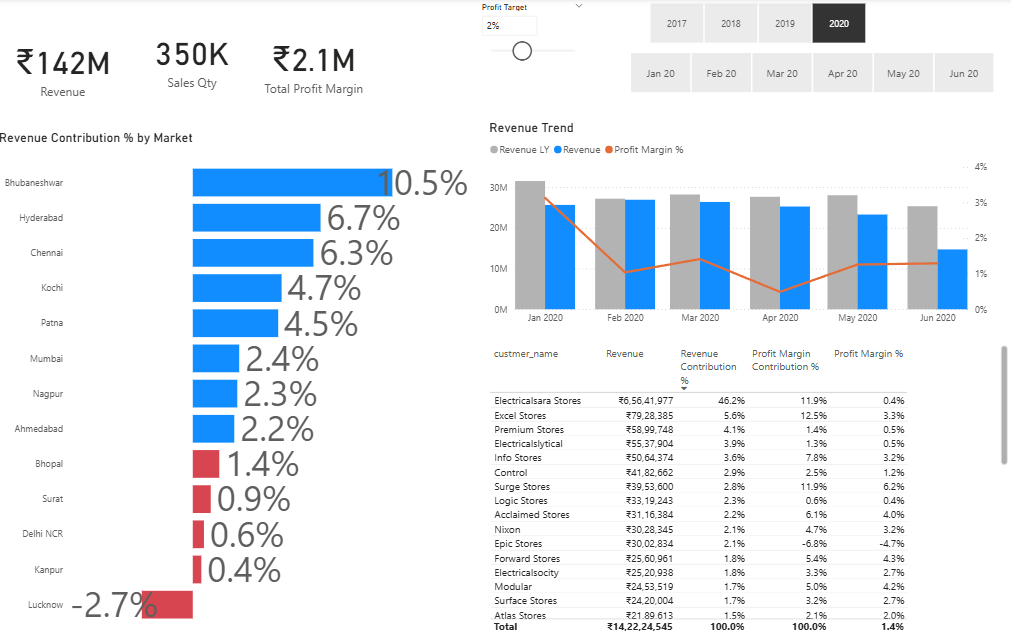

The page's visual inventory and layout, read from the dashboard file:
{"tool":"powerbi","page":{"name":"Profit Analysis","canvas":[1350,850],"ordinal":1},"visuals":[{"type":"card","fields":{"Values":["BaseMeasures (2).Revenue"]},"box":[0,0,179.6,184.8],"z":0},{"type":"card","fields":{"Values":["BaseMeasures (2).Sales Qty"]},"box":[179.6,0,164.1,193],"z":1000},{"type":"barChart","title":"Profit % by market","fields":{"Y":["BaseMeasures (2).Profit Margin %"],"Category":["sales markets.markets_name"]},"box":[464.5,184.8,230.2,664.8],"z":2000},{"type":"barChart","title":"Profit Contribution % by Market","fields":{"Y":["BaseMeasures (2).Profit Margin Contribution %"],"Category":["sales markets.markets_name"]},"box":[221.9,185.8,208.5,659.6],"z":3000},{"type":"slicer","fields":{"Values":["sales date.year"]},"box":[483.2,0,335.5,66.5],"z":4000},{"type":"slicer","fields":{"Values":["sales date.cy_date"]},"box":[818.6,0,531.7,66.5],"z":5000},{"type":"tableEx","title":"Top 5 Customers","fields":{"Values":["sales customers.custmer_name","BaseMeasures (2).Revenue","BaseMeasures (2).Revenue Contribution %","BaseMeasures (2).Profit Margin Contribution %","BaseMeasures (2).Profit Margin %"]},"box":[701.9,454.2,648.3,395.4],"z":6000},{"type":"lineChart","title":"Revenue Trend","fields":{"Y":["BaseMeasures (2).Revenue"],"Category":["sales date.cy_date"]},"box":[701.9,104.3,621.4,338.6],"z":7000},{"type":"card","fields":{"Values":["BaseMeasures (2).Total Profit Margin"]},"box":[349.9,0,161,176.5],"z":8000},{"type":"barChart","title":"Revenue Contribution % by Market","fields":{"Y":["BaseMeasures (2).Revenue Contribution %"],"Category":["sales markets.markets_name"]},"box":[0,185.8,219.9,654.5],"z":9000}]}

Visuals, with their boxes in screenshot pixels (x1, y1, x2, y2), scaled from the page's 1350x850 canvas onto the 1011x638 screenshot:
card - BaseMeasures (2).Revenue: 0/0/135/139
card - BaseMeasures (2).Sales Qty: 135/0/257/145
"Profit % by market" barChart: 348/139/520/637
"Profit Contribution % by Market" barChart: 166/139/322/635
slicer - sales date.year: 362/0/613/50
slicer - sales date.cy_date: 613/0/1010/50
"Top 5 Customers" tableEx: 526/341/1010/637
"Revenue Trend" lineChart: 526/78/991/332
card - BaseMeasures (2).Total Profit Margin: 262/0/383/132
"Revenue Contribution % by Market" barChart: 0/139/165/631
